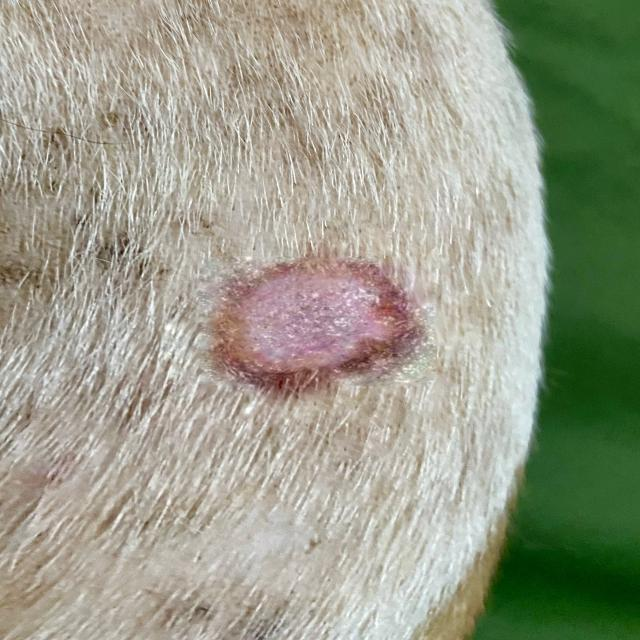ringworm: (200, 254, 445, 400)
